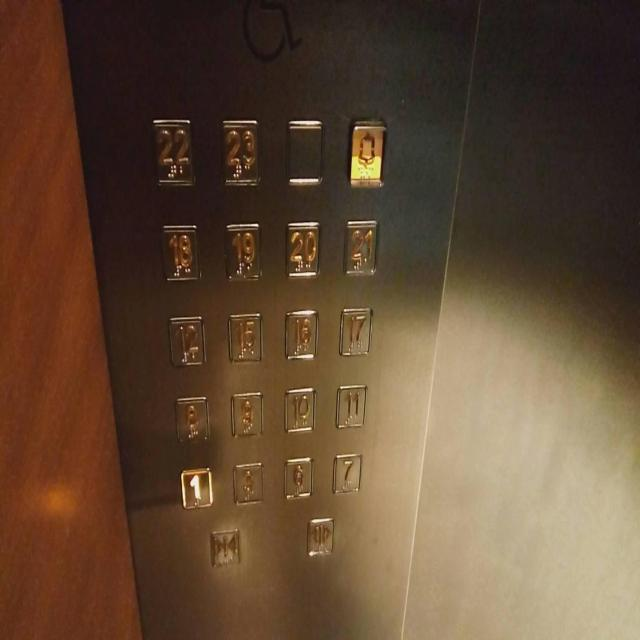1: (178, 463, 216, 515)
10: (280, 383, 318, 437)
11: (332, 379, 369, 433)
12: (167, 310, 207, 375)
15: (225, 306, 264, 371)
16: (280, 300, 320, 366)
17: (336, 299, 374, 364)
18: (160, 220, 199, 284)
19: (224, 218, 263, 283)
20: (284, 216, 322, 282)
21: (342, 216, 381, 280)
22: (148, 110, 196, 192)
23: (216, 110, 264, 192)
3: (228, 459, 266, 511)
6: (278, 451, 316, 504)
7: (328, 448, 366, 500)
8: (172, 390, 211, 454)
9: (228, 384, 265, 443)
alarm: (343, 114, 388, 192)
close: (205, 522, 242, 574)
empty: (281, 115, 327, 190)
open: (303, 513, 338, 562)
